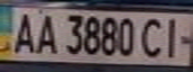0: (115, 15, 139, 57)
3: (60, 11, 84, 56)
8: (81, 12, 103, 56), (100, 14, 121, 57)
A: (9, 9, 39, 55), (30, 10, 60, 55)
C: (139, 15, 169, 60)
I: (157, 15, 190, 60)
